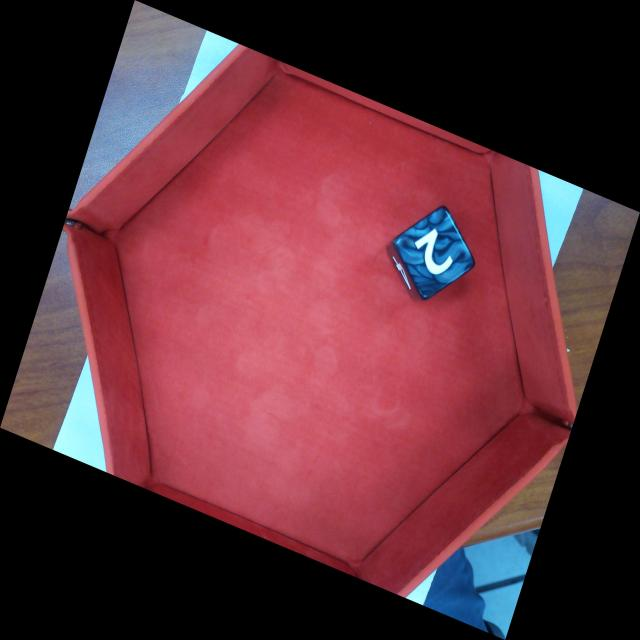dice: (391, 207, 476, 299)
